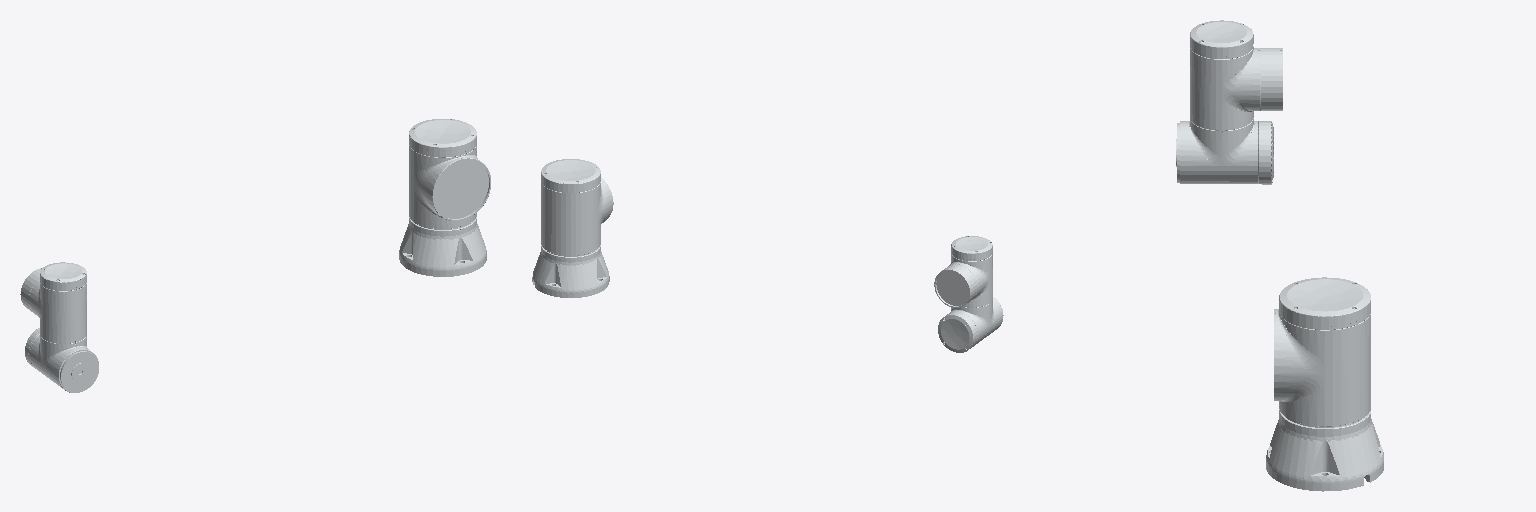
URDF robot description (fr5_robot):
<?xml version="1.0" encoding="utf-8" ?>
<!-- This URDF was automatically created by SolidWorks to URDF Exporter! Originally created by [author] ([email redacted]) 
     Commit Version: 1.5.1-0-g916b5db  Build Version: 1.5.7152.31018
     For more information, please see http://wiki.ros.org/sw_urdf_exporter -->
<robot name="fr5_robot">
    <link name="world" />
    <joint name="world" type="fixed">
        <parent link="world" />
        <child link="base_link" />
    </joint>
    <link name="base_link">
        
<inertial>
            <origin xyz="-0.00044457 0.0004811 0.032592" rpy="0 0 0" />
            <mass value="1.62" />
            <inertia ixx="0.0024567" ixy="-1.5435E-05" ixz="-1.3507E-05" iyy="0.0024575" iyz="1.4421E-05" izz="0.0038879" />
        </inertial>

        <visual>
            <origin xyz="0 0 0" rpy="0 0 0" />
            <geometry>
                <mesh filename="package://frcobot_description/meshes/fr5/visual/base.dae" />
            </geometry>
            <material name="">
                <color rgba="0.89804 0.91765 0.92941 1" />
            </material>
        </visual>
        <collision>
            <origin xyz="0 0 0" rpy="0 0 0" />
            <geometry>
                <mesh filename="package://frcobot_description/meshes/fr5/collision/base_link.STL" />
            </geometry>
        </collision>
    </link>
    <link name="shoulder_Link">
        
<inertial>
            <origin xyz="1.3785E-06 -0.0031495 0.14526" rpy="0 0 0" />
            <mass value="4.38" />
            <inertia ixx="0.010397" ixy="-1.005E-08" ixz="1.6274E-07" iyy="0.010278" iyz="0.00015856" izz="0.0076307" />
        </inertial>

        <visual>
            <origin xyz="0 0 0" rpy="0 0 0" />
            <geometry>
                <mesh filename="package://frcobot_description/meshes/fr5/visual/shoulder.dae" />
            </geometry>
            <material name="">
                <color rgba="0.89804 0.91765 0.92941 1" />
            </material>
        </visual>
        <collision>
            <origin xyz="0 0 0" rpy="0 0 0" />
            <geometry>
                <mesh filename="package://frcobot_description/meshes/fr5/collision/shoulder_Link.STL" />
            </geometry>
        </collision>
    </link>
    <joint name="j1" type="revolute">
        <origin xyz="0 0 0" rpy="0 0 0" />
        <parent link="base_link" />
        <child link="shoulder_Link" />
        <axis xyz="0 0 1" />
        <limit lower="-3.0543261" upper="3.0543261" effort="150" velocity="3.15" />
        <calibration rising="0" falling="0" />
        <dynamics damping="0" friction="0" />
        <safety_controller soft_upper_limit="3.0543261" soft_lower_limit="-3.0543261" k_position="100.0" k_velocity="40.0" />
    </joint>
    <link name="upperarm_Link">
        
<inertial>
            <origin xyz="-2.2928E-05 0.33278 0.084237" rpy="0 0 0" />
            <mass value="14.46" />
            <inertia ixx="2.9074" ixy="-0.00023104" ixz="-2.5049E-05" iyy="0.12653" iyz="-0.1479" izz="2.8157" />
        </inertial>

        <visual>
            <origin xyz="0 0 0" rpy="0 0 0" />
            <geometry>
                <mesh filename="package://frcobot_description/meshes/fr5/visual/upperarm.dae" />
            </geometry>
            <material name="">
                <color rgba="0.89804 0.91765 0.92941 1" />
            </material>
        </visual>
        <collision>
            <origin xyz="0 0 0" rpy="0 0 0" />
            <geometry>
                <mesh filename="package://frcobot_description/meshes/fr5/collision/upperarm_Link.STL" />
            </geometry>
        </collision>
    </link>
    <joint name="j2" type="revolute">
        <origin xyz="0 0 0.155" rpy="1.570796 -1.570796 0" />
        <parent link="shoulder_Link" />
        <child link="upperarm_Link" />
        <axis xyz="0 0 1" />
        <limit lower="-4.6251225" upper="1.4835298" effort="150" velocity="3.15" />
        <calibration rising="0" falling="0" />
        <dynamics damping="0" friction="0" />
        <safety_controller soft_upper_limit="1.4835298" soft_lower_limit="-4.6251225" k_position="100" k_velocity="40" />
    </joint>
    <link name="forearm_Link">
        
<inertial>
            <origin xyz="0.092224 -2.2928E-05 0.084237" rpy="0 0 0" />
            <mass value="7.67" />
            <inertia ixx="0.12653" ixy="0.00023104" ixz="0.1479" iyy="2.9074" iyz="-2.5049E-05" izz="2.8157" />
        </inertial>

        <visual>
            <origin xyz="0 0 0" rpy="0 0 0" />
            <geometry>
                <mesh filename="package://frcobot_description/meshes/fr5/visual/forearm.dae" />
            </geometry>
            <material name="">
                <color rgba="0.89804 0.91765 0.92941 1" />
            </material>
        </visual>
        <collision>
            <origin xyz="0 0 0" rpy="0 0 0" />
            <geometry>
                <mesh filename="package://frcobot_description/meshes/fr5/collision/forearm_Link.STL" />
            </geometry>
        </collision>
    </link>
    <joint name="j3" type="revolute">
        <origin xyz="0 0.425 0" rpy="0 0 -1.570796" />
        <parent link="upperarm_Link" />
        <child link="forearm_Link" />
        <axis xyz="0 0 1" />
        <limit lower="-2.8274333" upper="2.8274333" effort="150" velocity="3.15" />
        <calibration rising="0" falling="0" />
        <dynamics damping="0" friction="0" />
        <safety_controller soft_upper_limit="2.8274333" soft_lower_limit="-2.8274333" k_position="100" k_velocity="40" />
    </joint>
    <link name="wrist1_Link">
        
<inertial>
            <origin xyz="0.48722 -2.2928E-05 0.084237" rpy="0 0 0" />
            <mass value="1.63" />
            <inertia ixx="0.12653" ixy="0.00023104" ixz="0.1479" iyy="2.9074" iyz="-2.5049E-05" izz="2.8157" />
        </inertial>

        <visual>
            <origin xyz="0 0 0" rpy="0 0 0" />
            <geometry>
                <mesh filename="package://frcobot_description/meshes/fr5/visual/wrist1.dae" />
            </geometry>
            <material name="">
                <color rgba="0.89804 0.91765 0.92941 1" />
            </material>
        </visual>
        <collision>
            <origin xyz="0 0 0" rpy="0 0 0" />
            <geometry>
                <mesh filename="package://frcobot_description/meshes/fr5/collision/wrist1_Link.STL" />
            </geometry>
        </collision>
    </link>
    <joint name="j4" type="revolute">
        <origin xyz="-0.395 0 0" rpy="0 0 1.570796" />
        <parent link="forearm_Link" />
        <child link="wrist1_Link" />
        <axis xyz="0 0 1" />
        <limit lower="-4.6251225" upper="1.4835298" effort="28" velocity="3.2" />
        <calibration rising="0" falling="0" />
        <dynamics damping="0" friction="0" />
        <safety_controller soft_upper_limit="1.4835298" soft_lower_limit="-4.6251225" k_position="100" k_velocity="40" />
    </joint>
    <link name="wrist2_Link">
        
<inertial>
            <origin xyz="-2.396E-06 0.0045906 0.099342" rpy="0 0 0" />
            <mass value="1.58" />
            <inertia ixx="0.0022393" ixy="-1.0022E-07" ixz="-3.2115E-08" iyy="0.0013914" iyz="-2.2223E-05" izz="0.0021864" />
        </inertial>

        <visual>
            <origin xyz="0 0 0" rpy="0 0 0" />
            <geometry>
                <mesh filename="package://frcobot_description/meshes/fr5/visual/wrist2.dae" />
            </geometry>
            <material name="">
                <color rgba="0.89804 0.91765 0.92941 1" />
            </material>
        </visual>
        <collision>
            <origin xyz="0 0 0" rpy="0 0 0" />
            <geometry>
                <mesh filename="package://frcobot_description/meshes/fr5/collision/wrist2_Link.STL" />
            </geometry>
        </collision>
    </link>
    <joint name="j5" type="revolute">
        <origin xyz="0 0 0.13" rpy="1.570796 0 -1.570796" />
        <parent link="wrist1_Link" />
        <child link="wrist2_Link" />
        <axis xyz="0 0 1" />
        <limit lower="-3.0543261" upper="3.0543261" effort="28" velocity="3.2" />
        <calibration rising="0" falling="0" />
        <dynamics damping="0" friction="0" />
        <safety_controller soft_upper_limit="3.0543261" soft_lower_limit="-3.0543261" k_position="100" k_velocity="40" />
    </joint>
    <link name="wrist3_Link">
        
<inertial>
            <origin xyz="5.8427E-06 7.5807E-05 0.079126" rpy="0 0 0" />
            <mass value="0.53" />
            <inertia ixx="0.00027801" ixy="-3.5346E-07" ixz="-1.7431E-07" iyy="0.00027736" iyz="-7.5888E-08" izz="0.00041582" />
        </inertial>

        <visual>
            <origin xyz="0 0 0" rpy="0 0 0" />
            <geometry>
                <mesh filename="package://frcobot_description/meshes/fr5/visual/wrist3.dae" />
            </geometry>
            <material name="">
                <color rgba="0.89804 0.91765 0.92941 1" />
            </material>
        </visual>
        <collision>
            <origin xyz="0 0 0" rpy="0 0 0" />
            <geometry>
                <mesh filename="package://frcobot_description/meshes/fr5/collision/wrist3_Link.STL" />
            </geometry>
        </collision>
    </link>
    <joint name="j6" type="revolute">
        <origin xyz="0 0 0.102" rpy="-1.570796 2.268928 0" />
        <parent link="wrist2_Link" />
        <child link="wrist3_Link" />
        <axis xyz="0 0 1" />
        <limit lower="-3.0543261" upper="3.0543261" effort="28" velocity="3.2" />
        <calibration rising="0" falling="0" />
        <dynamics damping="0" friction="0" />
        <safety_controller soft_upper_limit="3.0543261" soft_lower_limit="-3.0543261" k_position="100" k_velocity="40" />
    </joint>
    
<transmission name="trans_j1">
        <type>transmission_interface/SimpleTransmission</type>
        <joint name="j1">
            <hardwareInterface>hardware_interface/PositionJointInterface</hardwareInterface>
        </joint>
        <actuator name="j1_motor">
            <hardwareInterface>hardware_interface/PositionJointInterface</hardwareInterface>
            <mechanicalReduction>1</mechanicalReduction>
        </actuator>
    </transmission>
    <transmission name="trans_j2">
        <type>transmission_interface/SimpleTransmission</type>
        <joint name="j2">
            <hardwareInterface>hardware_interface/PositionJointInterface</hardwareInterface>
        </joint>
        <actuator name="j2_motor">
            <hardwareInterface>hardware_interface/PositionJointInterface</hardwareInterface>
            <mechanicalReduction>1</mechanicalReduction>
        </actuator>
    </transmission>
    <transmission name="trans_j3">
        <type>transmission_interface/SimpleTransmission</type>
        <joint name="j3">
            <hardwareInterface>hardware_interface/PositionJointInterface</hardwareInterface>
        </joint>
        <actuator name="j3_motor">
            <hardwareInterface>hardware_interface/PositionJointInterface</hardwareInterface>
            <mechanicalReduction>1</mechanicalReduction>
        </actuator>
    </transmission>
    <transmission name="trans_j4">
        <type>transmission_interface/SimpleTransmission</type>
        <joint name="j4">
            <hardwareInterface>hardware_interface/PositionJointInterface</hardwareInterface>
        </joint>
        <actuator name="j4_motor">
            <hardwareInterface>hardware_interface/PositionJointInterface</hardwareInterface>
            <mechanicalReduction>1</mechanicalReduction>
        </actuator>
    </transmission>
    <transmission name="trans_j5">
        <type>transmission_interface/SimpleTransmission</type>
        <joint name="j5">
            <hardwareInterface>hardware_interface/PositionJointInterface</hardwareInterface>
        </joint>
        <actuator name="j5_motor">
            <hardwareInterface>hardware_interface/PositionJointInterface</hardwareInterface>
            <mechanicalReduction>1</mechanicalReduction>
        </actuator>
    </transmission>
    <transmission name="trans_j6">
        <type>transmission_interface/SimpleTransmission</type>
        <joint name="j6">
            <hardwareInterface>hardware_interface/PositionJointInterface</hardwareInterface>
        </joint>
        <actuator name="j6_motor">
            <hardwareInterface>hardware_interface/PositionJointInterface</hardwareInterface>
            <mechanicalReduction>1</mechanicalReduction>
        </actuator>
    </transmission>
    <gazebo>
        <plugin name="gazebo_ros_control" filename="libgazebo_ros_control.so">
            <robotNamespace>/fr5_arm</robotNamespace>
            <robotSimType>gazebo_ros_control/DefaultRobotHWSim</robotSimType>
        </plugin>
    </gazebo>
</robot>

--- What the picture shows (computed from the rendered views, not written in the file) ---
3 views of the same robot in one strip: view 1: azimuth 30°, elevation 25°; view 2: azimuth 150°, elevation 25°; view 3: azimuth 270°, elevation 25° (orthographic).
Model fr5_robot with 8 links and 7 joints (6 revolute, 1 fixed), rooted at world, posed every joint at zero.
Links seen in each view (by area): view 1: shoulder_Link, wrist1_Link, base_link, wrist2_Link; view 2: shoulder_Link, wrist1_Link, base_link, wrist2_Link; view 3: shoulder_Link, wrist1_Link, base_link, wrist2_Link.
Link boxes in pixels (x1,y1,x2,y2): shoulder_Link: (409,119,490,229); wrist1_Link: (20,262,86,343); base_link: (399,217,486,276); wrist2_Link: (25,328,98,392); shoulder_Link: (541,159,613,256); wrist1_Link: (934,236,992,307); base_link: (532,245,609,297); wrist2_Link: (938,297,1003,352); shoulder_Link: (1274,277,1370,427); wrist1_Link: (1190,20,1282,130); base_link: (1266,409,1383,491); wrist2_Link: (1176,118,1273,184).
Bounding box of the posed robot: 0.9346 × 0.2627 × 0.2375 m (x, y, z).
4 mesh visuals loaded from 7 distinct referenced files (4 Collada DAE); not drawn: 3 (reference not matched to a file when rendering).